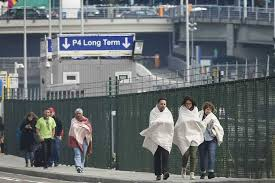Humano: (148, 99, 172, 180), (175, 97, 198, 181), (198, 100, 219, 178), (70, 106, 92, 172), (36, 106, 54, 167), (18, 112, 36, 167)
